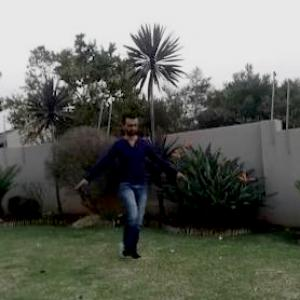land: (80, 111, 189, 249)
